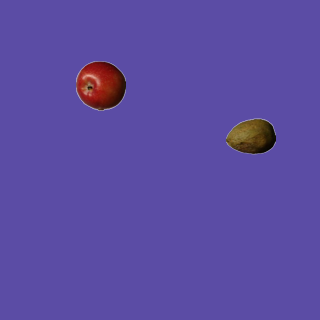Apple Braeburn: (75, 60, 125, 110)
Papaya: (225, 111, 275, 161)
